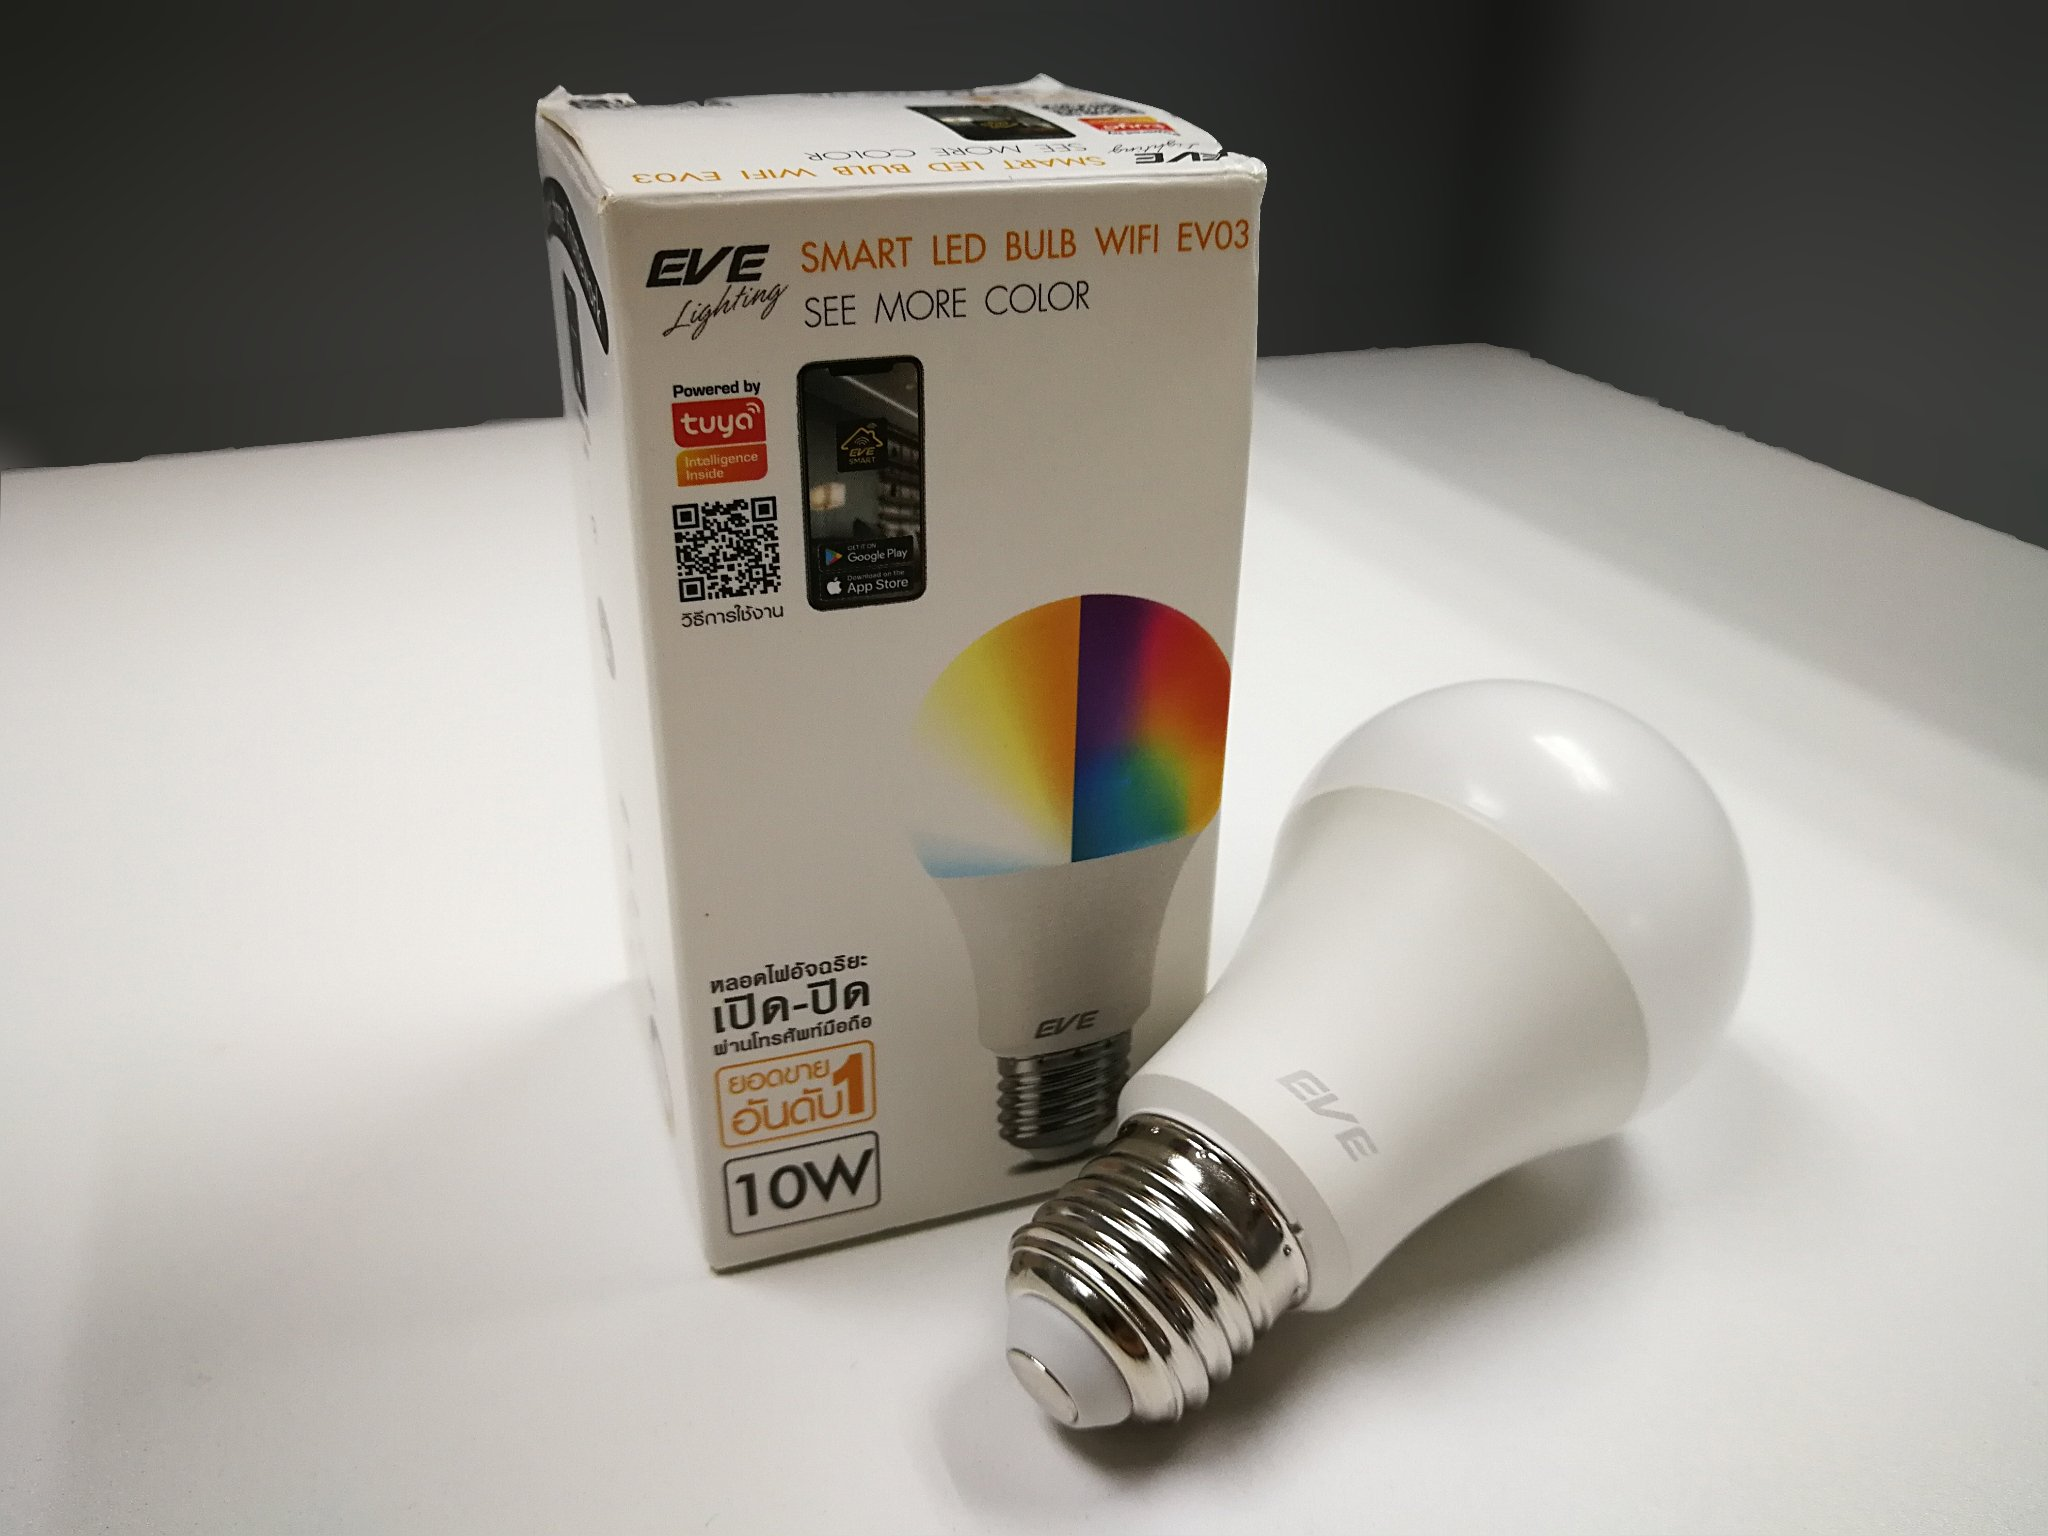Light_bulb: (980, 666, 1774, 1468)
